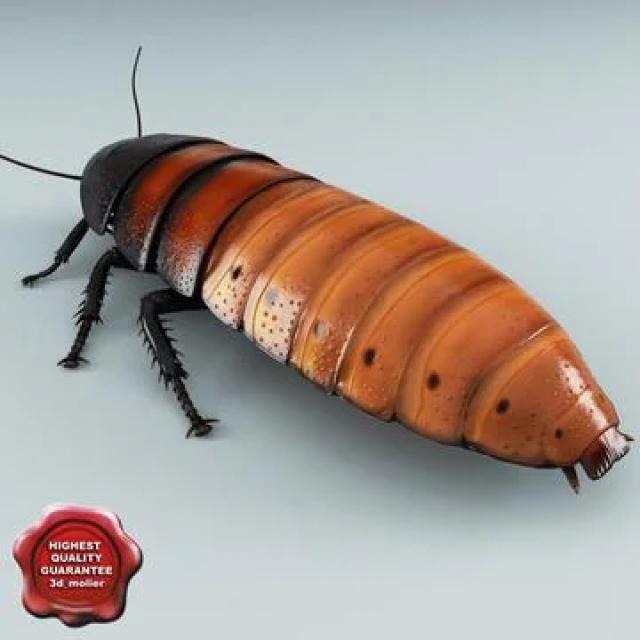Cockroach: (0, 41, 640, 486)
